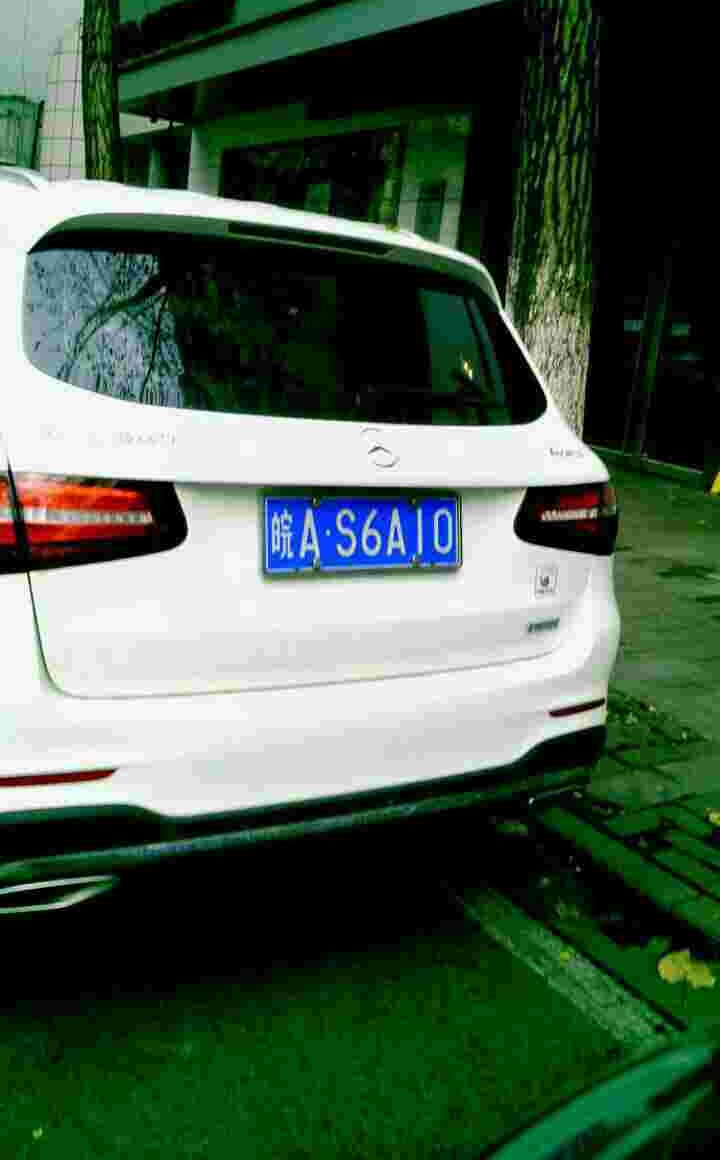license_plate: (265, 495, 465, 576)
